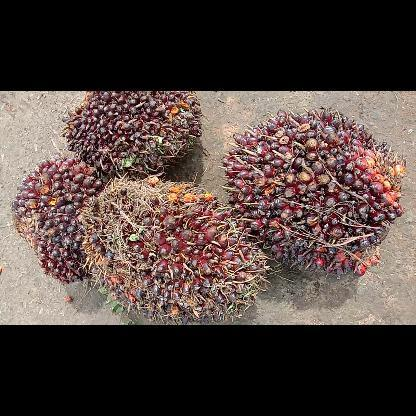Kurang masak: (219, 108, 405, 276), (85, 181, 276, 322), (61, 90, 201, 180), (12, 156, 104, 284)
